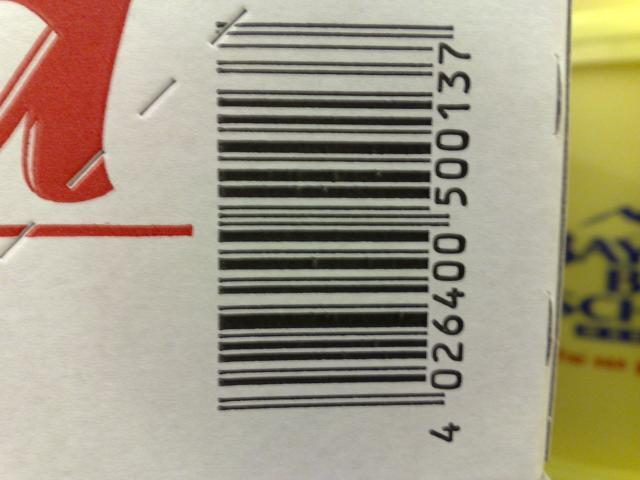Barcode: (200, 7, 493, 464)
